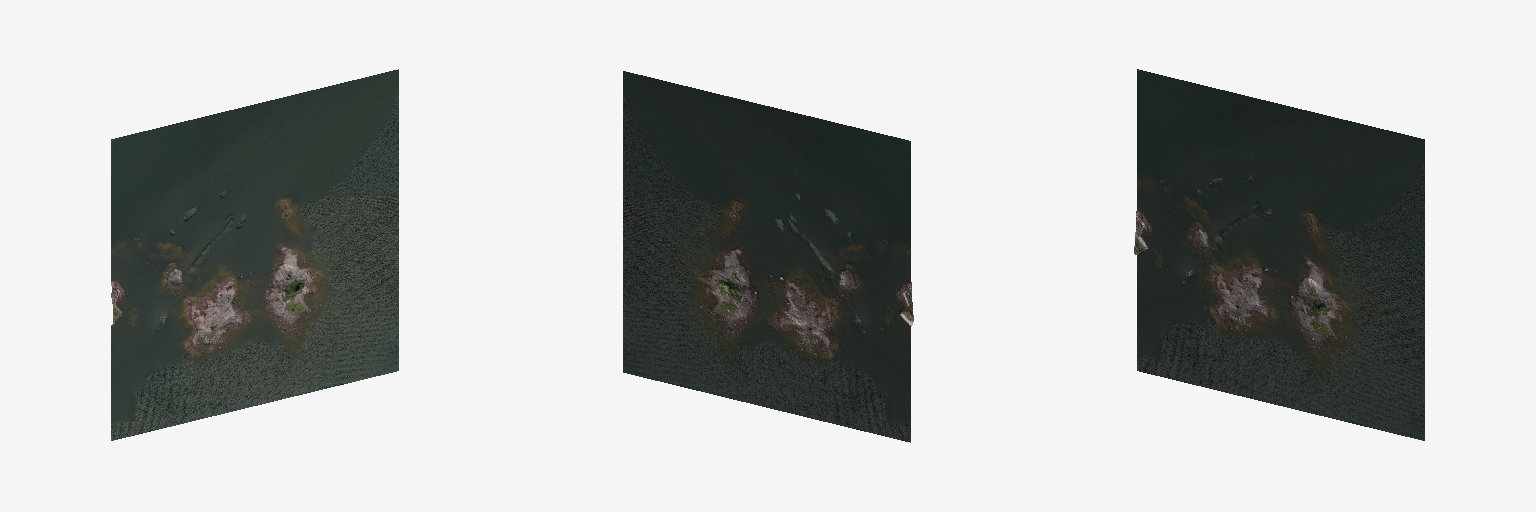
The picture shows the model from 3 angles: view 1: azimuth 30°, elevation 25°; view 2: azimuth 150°, elevation 25°; view 3: azimuth 330°, elevation 25°; orthographic projection.
Size of the model in its own units: 252 by 252 by 7.18.
Materials: 2 (1 with a texture image).